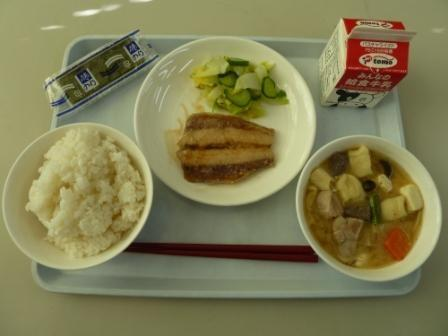Fish: (171, 111, 288, 198)
Milk: (313, 2, 417, 115)
Rice: (2, 128, 155, 269)
Salad: (182, 42, 295, 126)
Soups: (294, 139, 442, 278)
